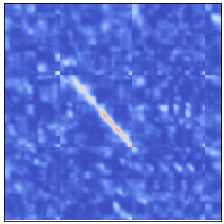action_path: (57, 75, 132, 149)
